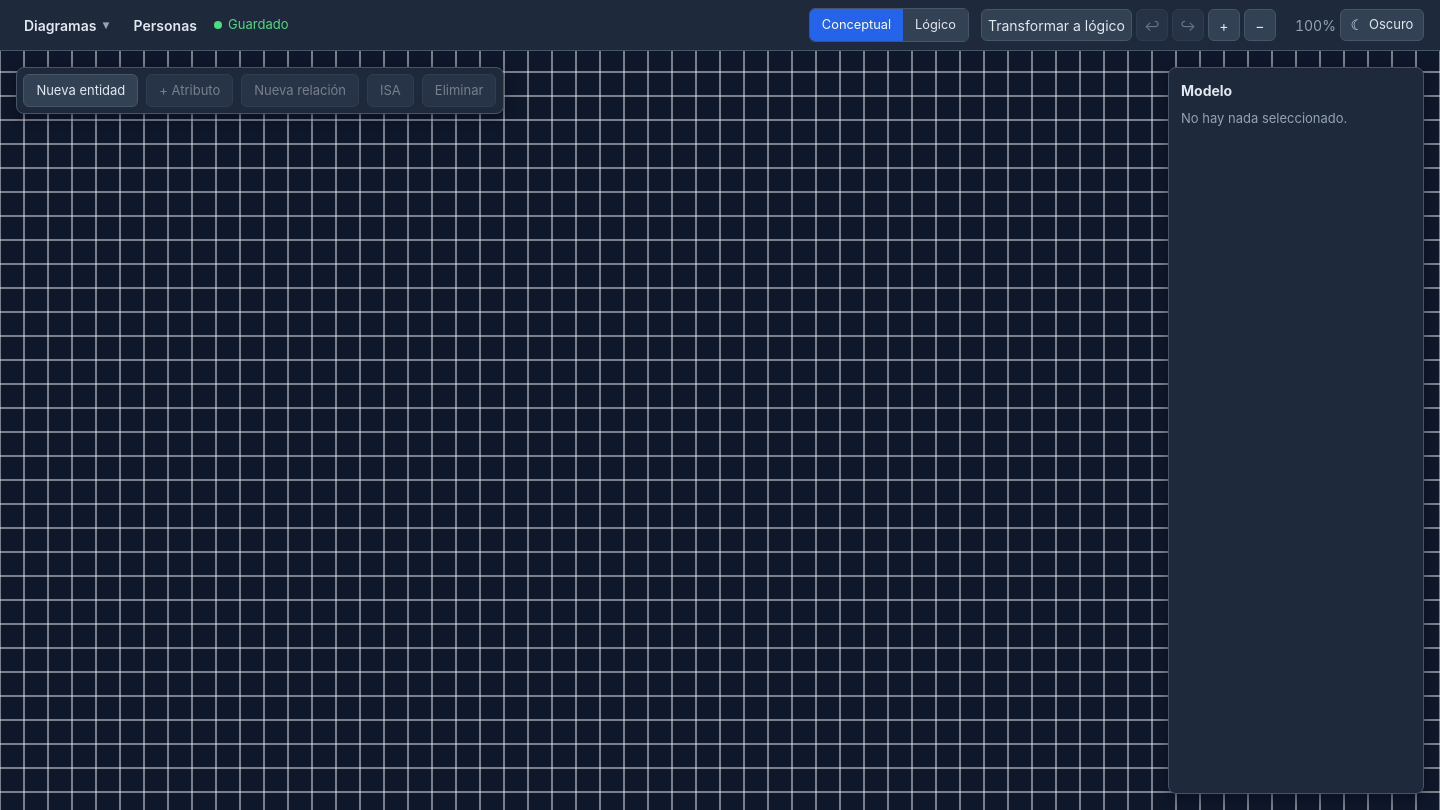
Test: EditorPage › un 409 en el guardado abre el diálogo con las tres estrategias y las versiones (P8.10)
Click the button "Nueva entidad" at (81, 91), box [23,74,138,107]
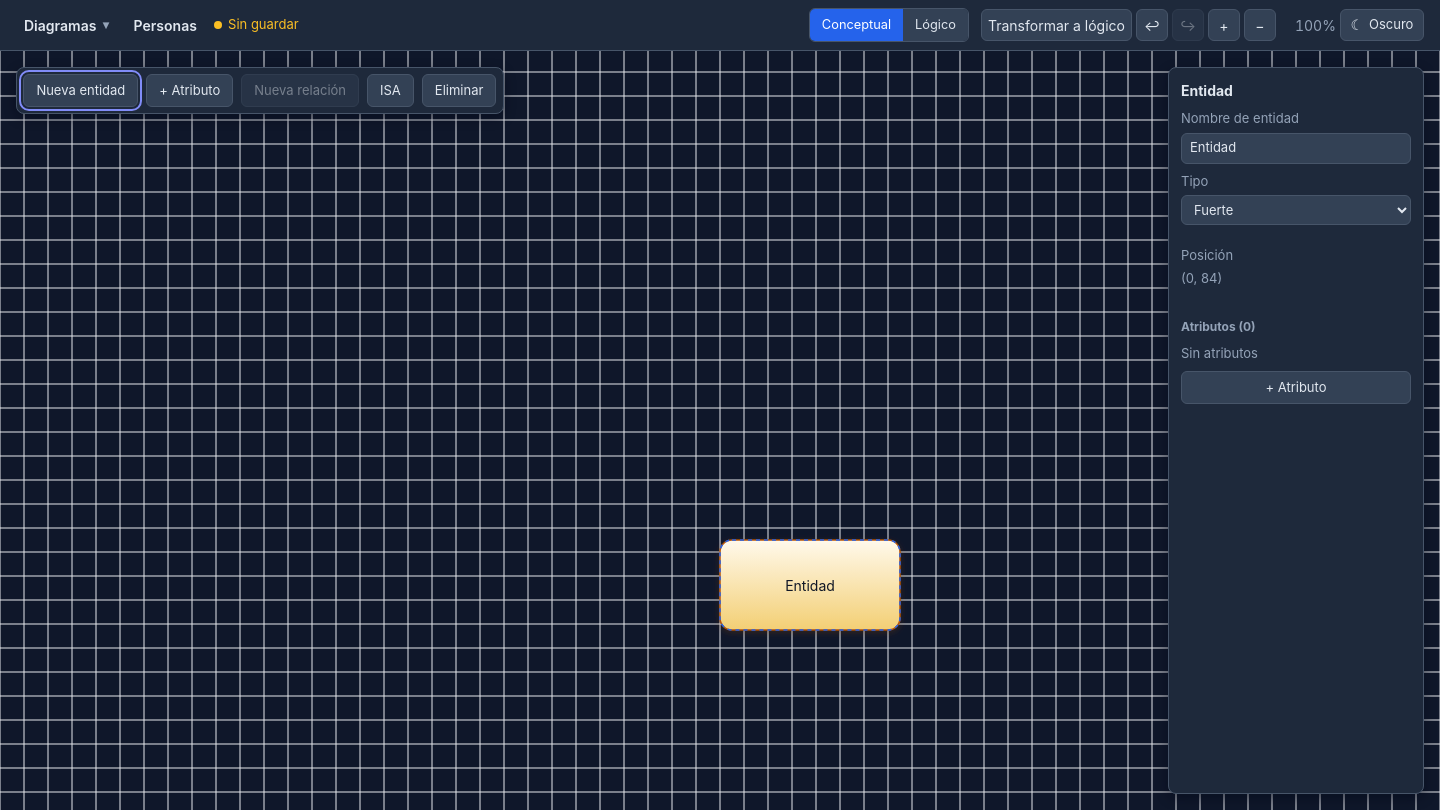
Type keys "{Control>}s{/Control}"
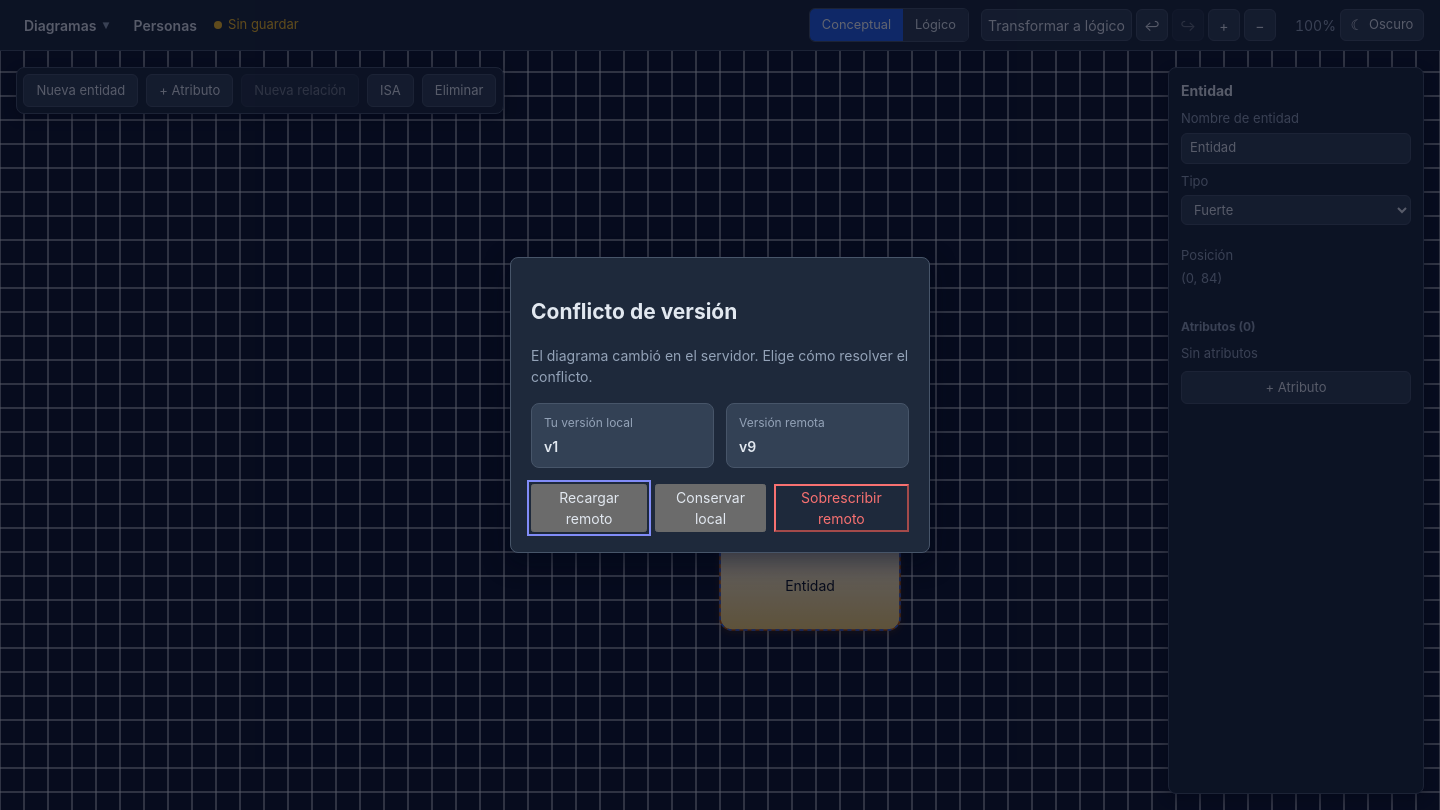
Expected: the dialog "Conflicto de versión" is shown, [510,257,930,553]
Expected: the button "Recargar remoto" is shown, [531,484,647,532]
Expected: the button "Conservar local" is shown, [655,484,766,532]
